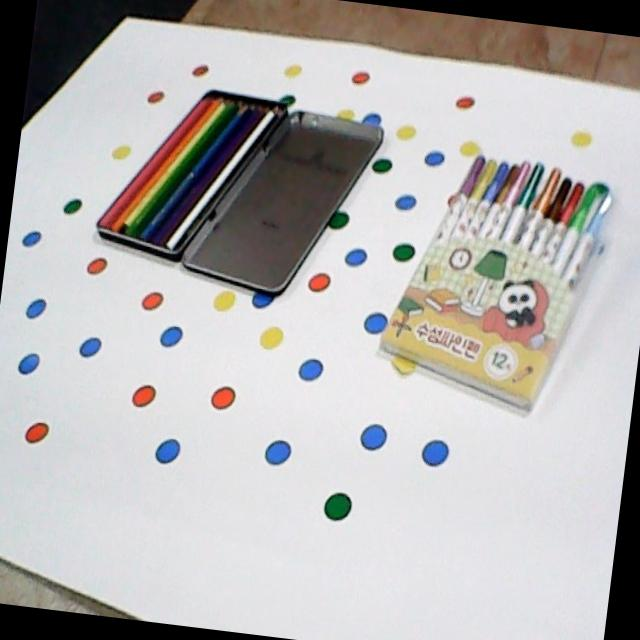color: (79, 74, 298, 264)
signpen: (362, 143, 635, 427)
